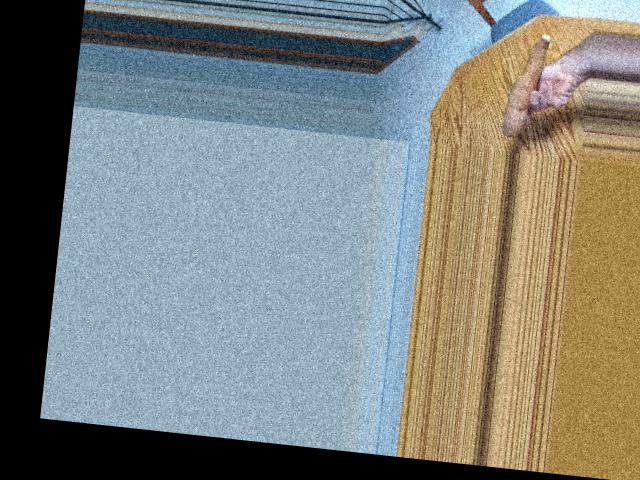sweet_potato: (496, 31, 557, 138)
